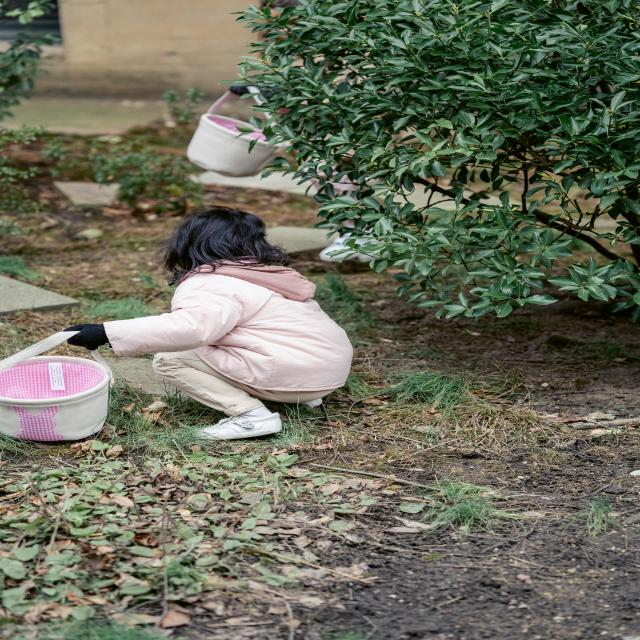sit: (107, 202, 354, 445)
